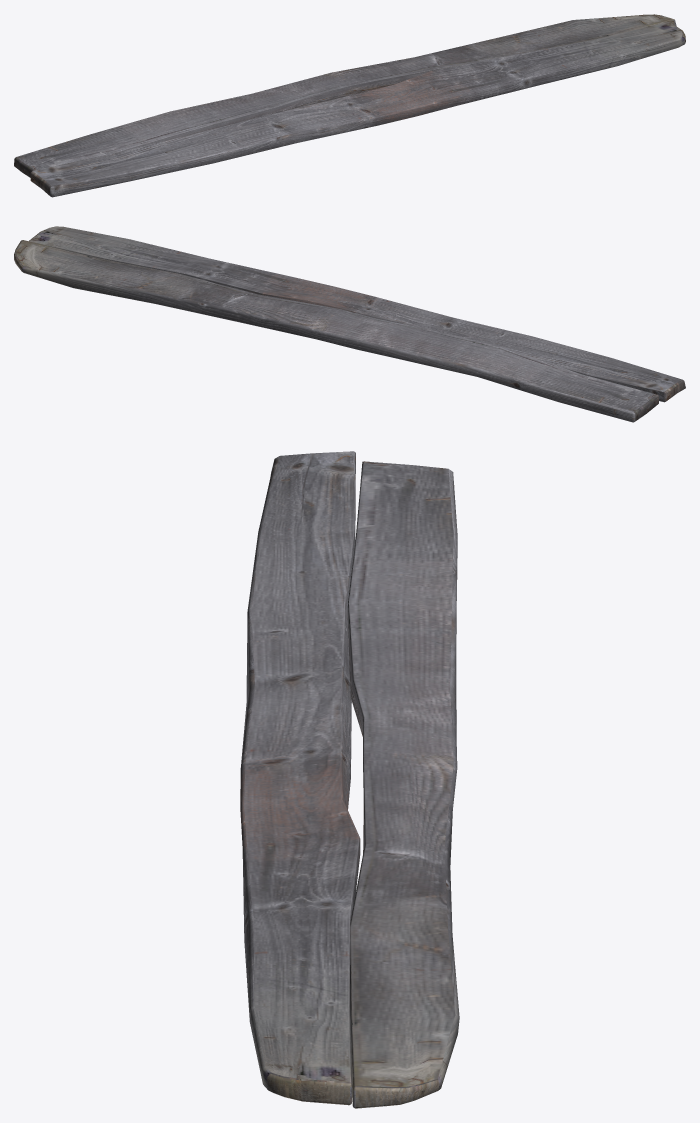
The model's file is SM_WoodPlank_02_03.fbx.
The picture shows the model from 3 angles, top to bottom: view 1: azimuth 30°, elevation 25°; view 2: azimuth 150°, elevation 25°; view 3: azimuth 270°, elevation 25°; orthographic projection. The views are drawn at different scales.
Visible parts, largest first — view 1: sm_WoodPlank_02_03_LOD0; view 2: sm_WoodPlank_02_03_LOD0; view 3: sm_WoodPlank_02_03_LOD0.
Boxes of the visible parts, left/top/right/bottom form: sm_WoodPlank_02_03_LOD0: left=14, top=14, right=685, bottom=197; sm_WoodPlank_02_03_LOD0: left=14, top=226, right=685, bottom=422; sm_WoodPlank_02_03_LOD0: left=240, top=451, right=459, bottom=1108.
Size of the model in its own units: 29.45 by 201 by 7.05.
